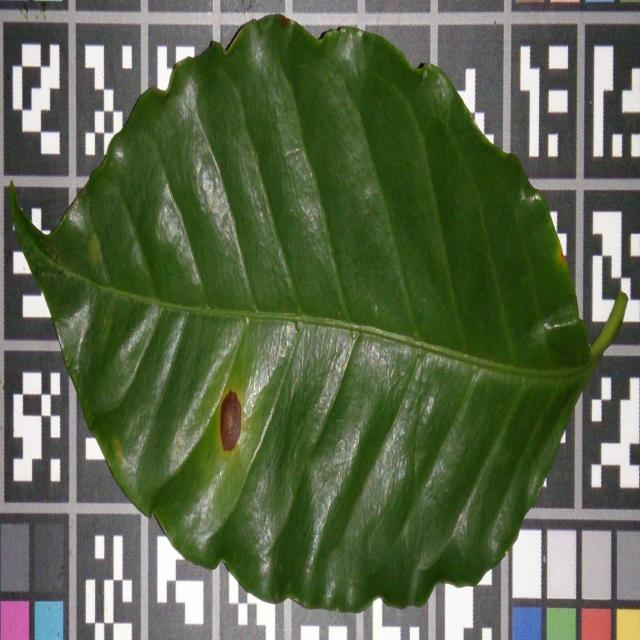Enfermedad-Mancha-de-hierro: (14, 14, 625, 615)
